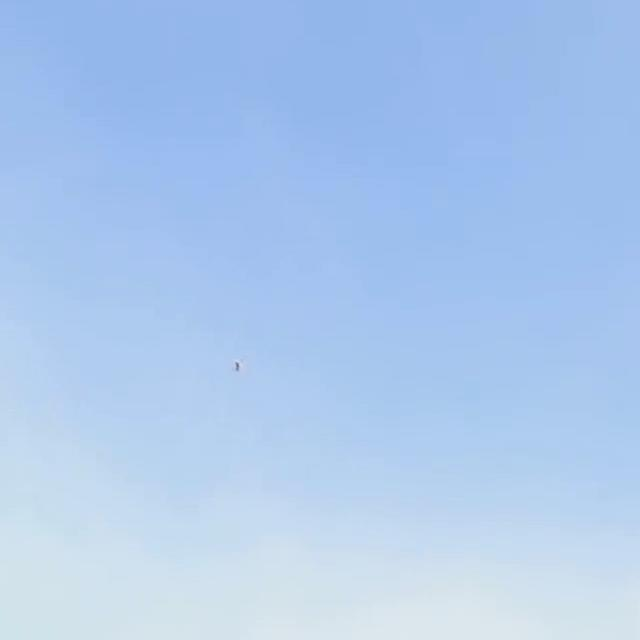drone: (230, 358, 244, 375)
